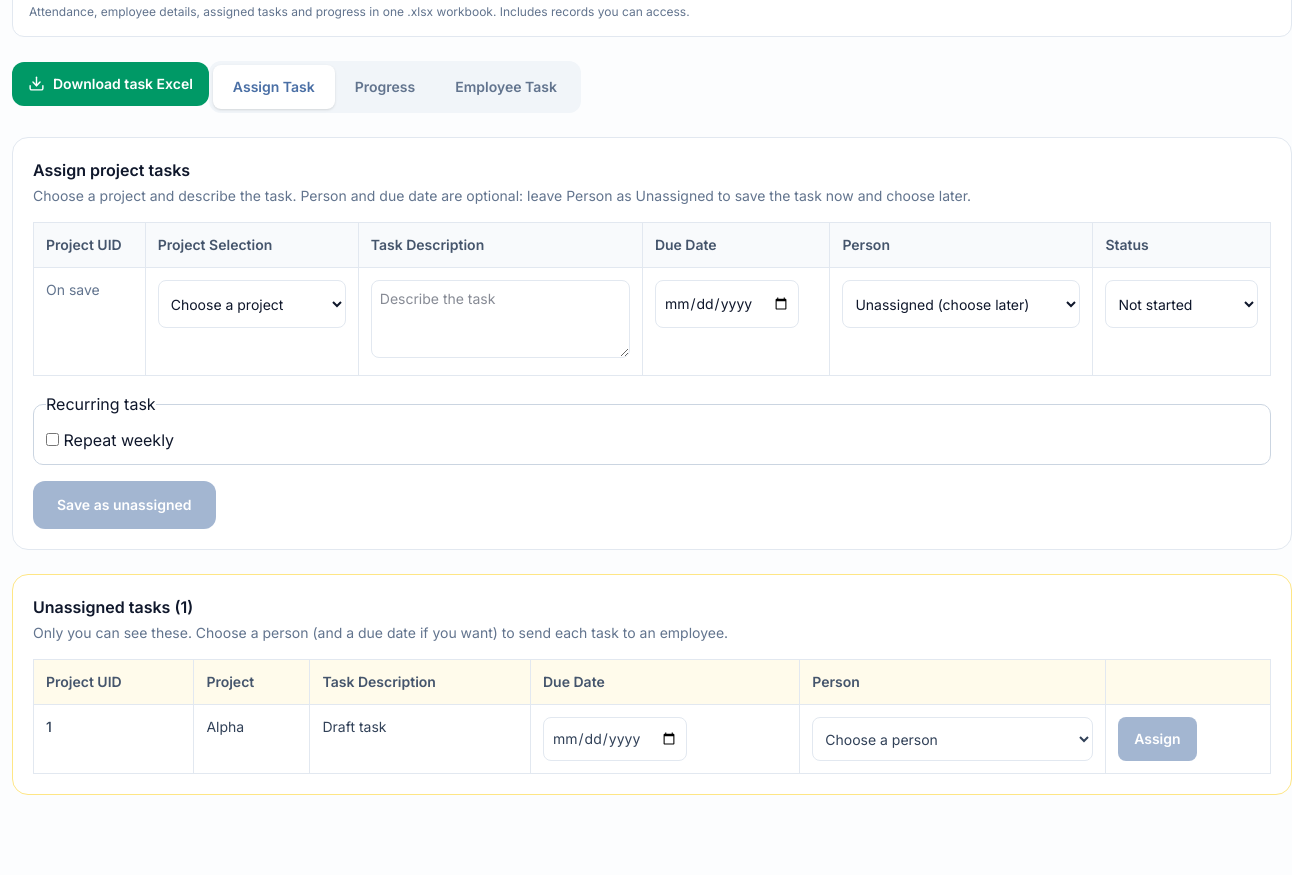
manager task assignments › assigns an unassigned task later, with an optional due date, and keeps it out of Progress until then
(page scrolled)
Expected: the heading "Unassigned tasks (1)" is shown, [33,597,193,617]
Expected: the button "Assign" is disabled, [1118,717,1197,761]
Select "Other Employee" in the dropdown named "Person for Draft task" at coordinates (953, 739), box [812,717,1093,761]
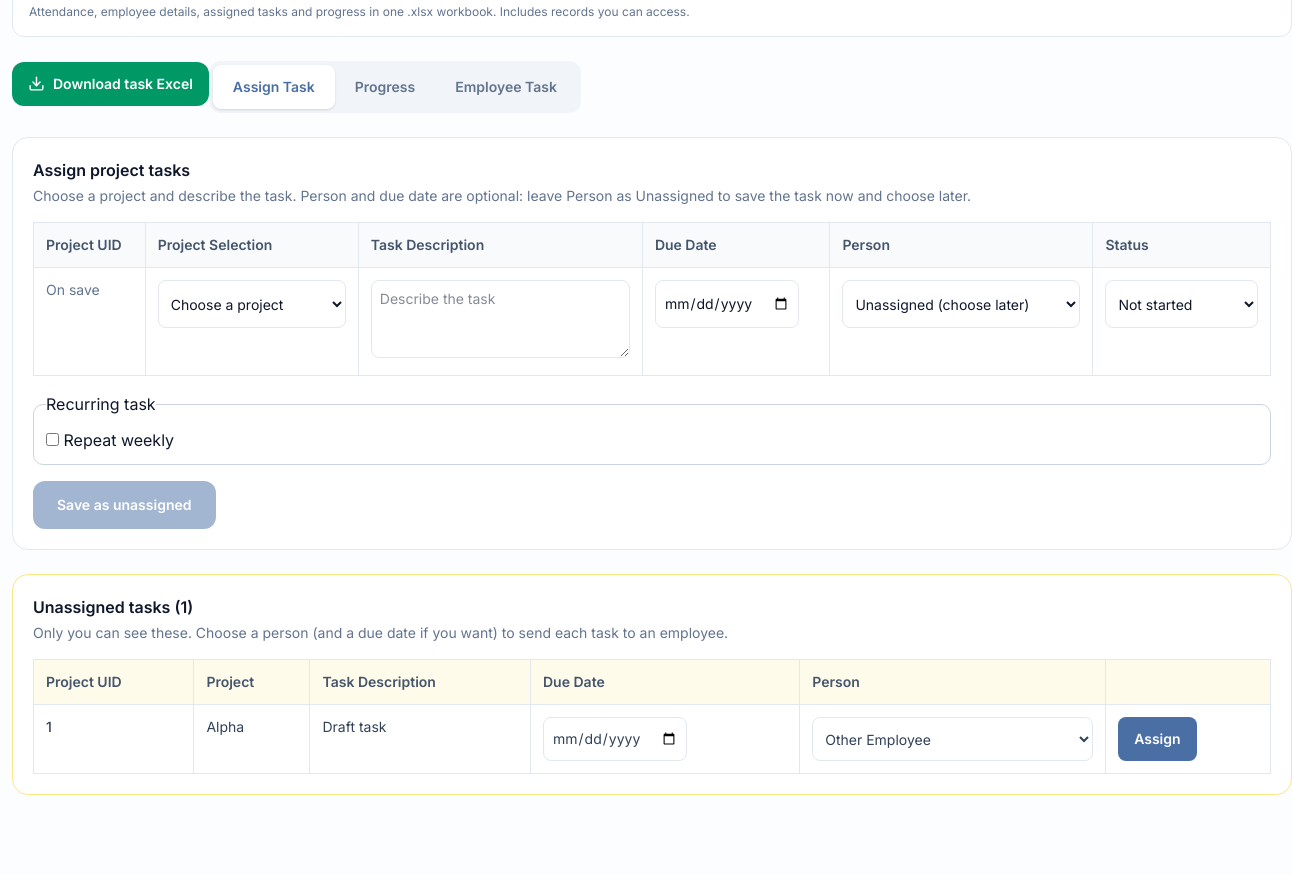
Click the button "Assign" at coordinates (1157, 739), box [1118,717,1197,761]
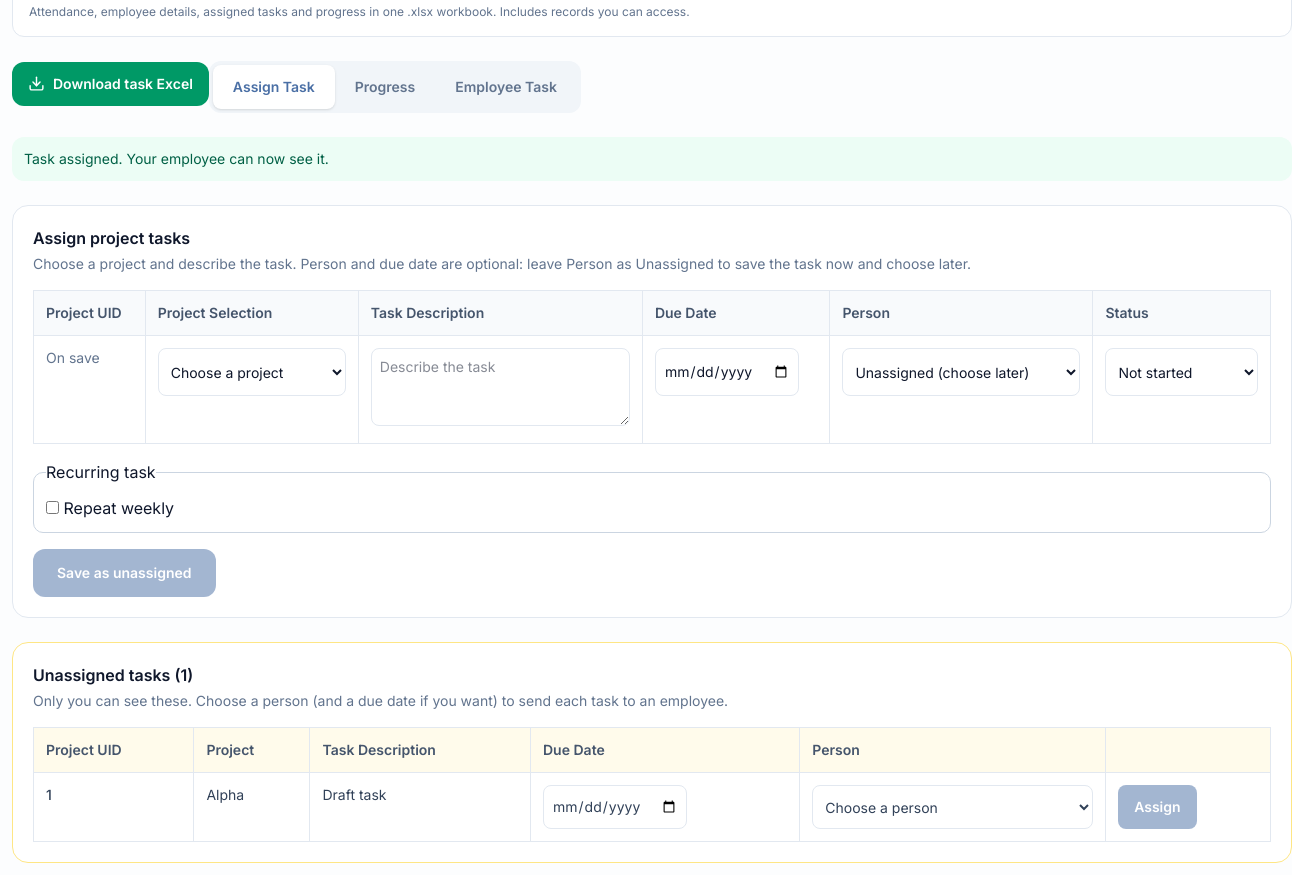
Click the tab "Progress" at coordinates (385, 87), box [335,65,435,109]
(page scrolled)
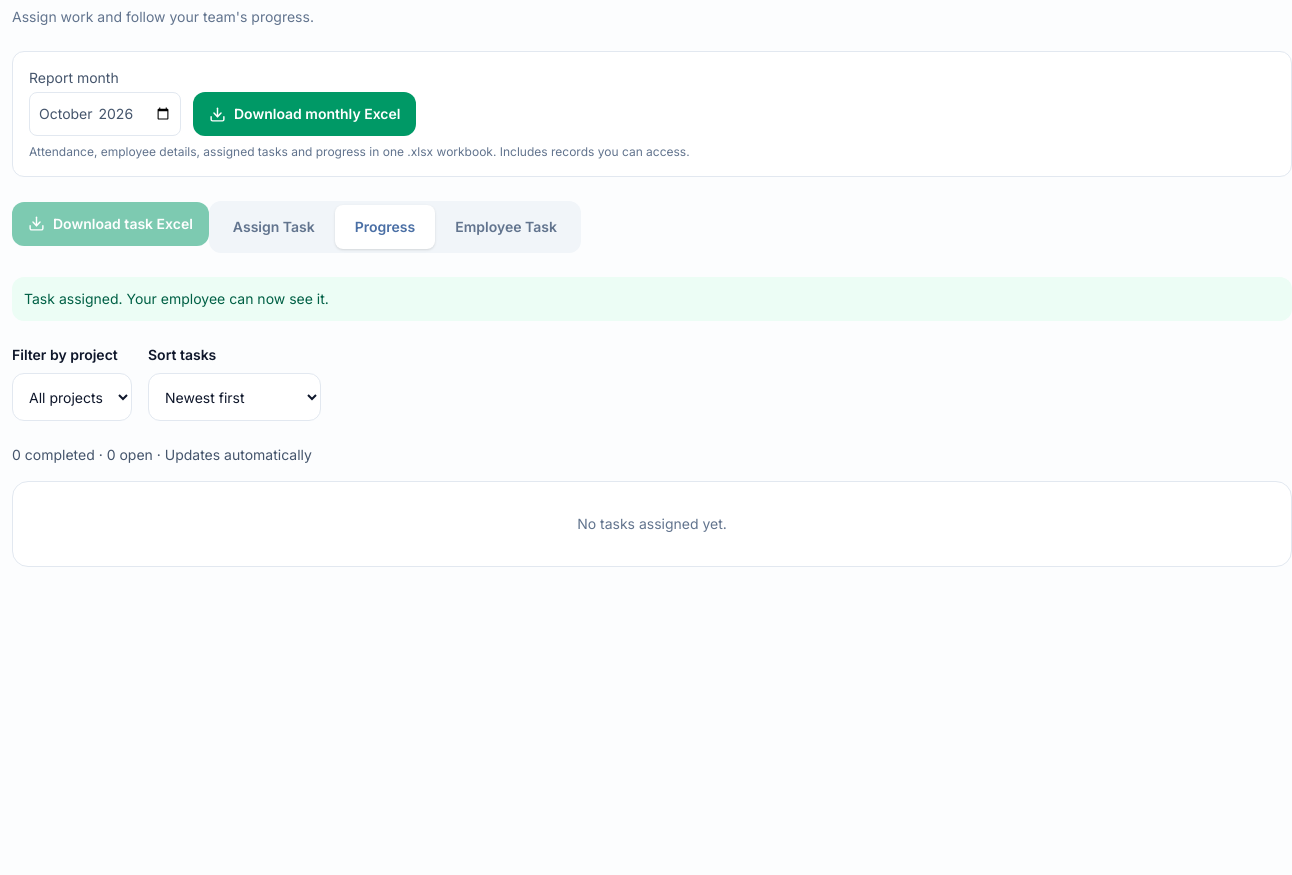
Expected: the text "Draft task" is gone
